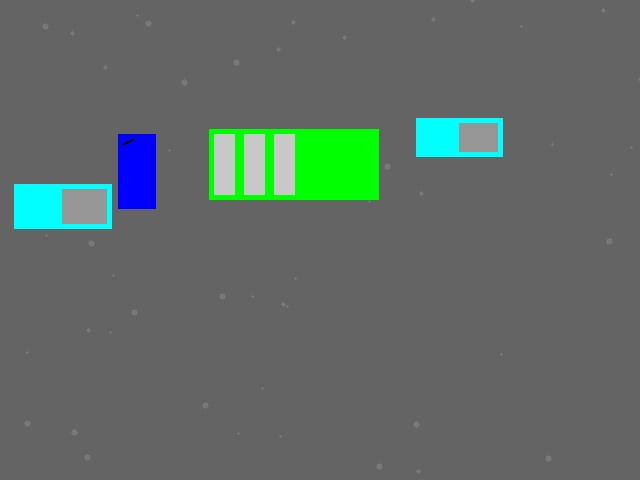bus: (209, 129, 378, 199)
motorcycle: (118, 134, 155, 208)
truck: (14, 184, 111, 228), (416, 118, 502, 156)
